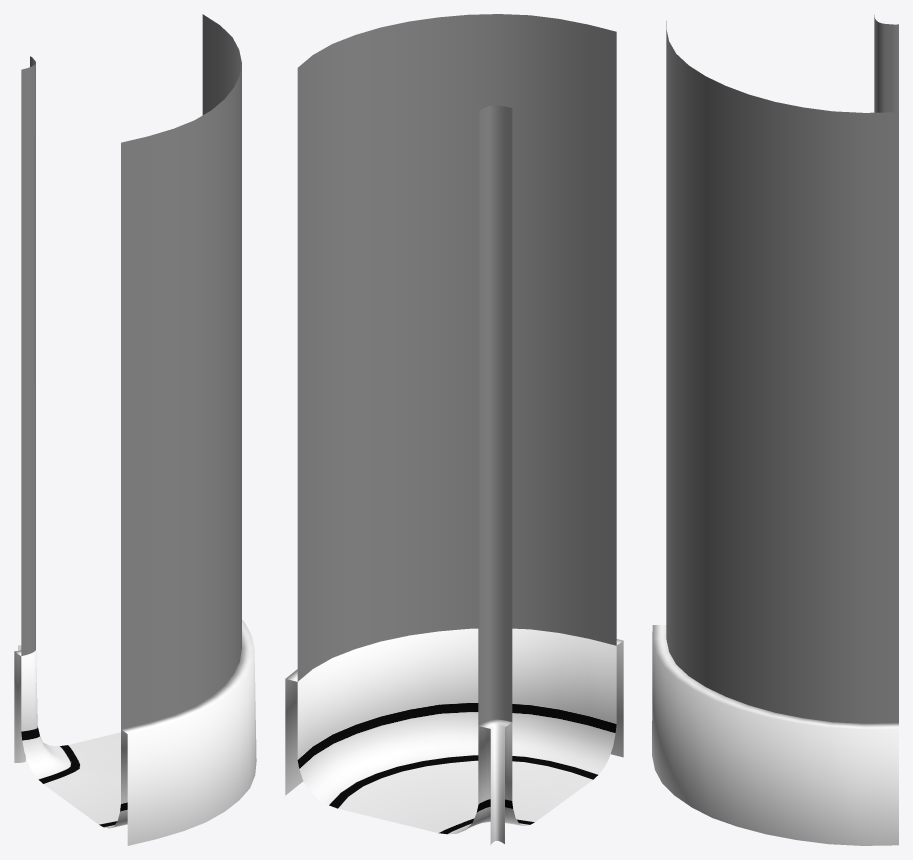
File: TrackPiece_Curve_Small.obj
3 renders of one model, left to right at view 1: azimuth 30°, elevation 25°; view 2: azimuth 150°, elevation 25°; view 3: azimuth 270°, elevation 25°, orthographic. The views are drawn at different scales.
Parts seen in each view (by area): view 1: TrackPiece_Curve_Small_Cube.013; view 2: TrackPiece_Curve_Small_Cube.013; view 3: TrackPiece_Curve_Small_Cube.013.
Boxes of the visible parts, x1,y1,x2,y2 form: TrackPiece_Curve_Small_Cube.013: [14, 14, 256, 845]; TrackPiece_Curve_Small_Cube.013: [285, 14, 623, 845]; TrackPiece_Curve_Small_Cube.013: [652, 15, 898, 845].
Bounding box in the file's own units: 7.72 × 25.01 × 7.69.
